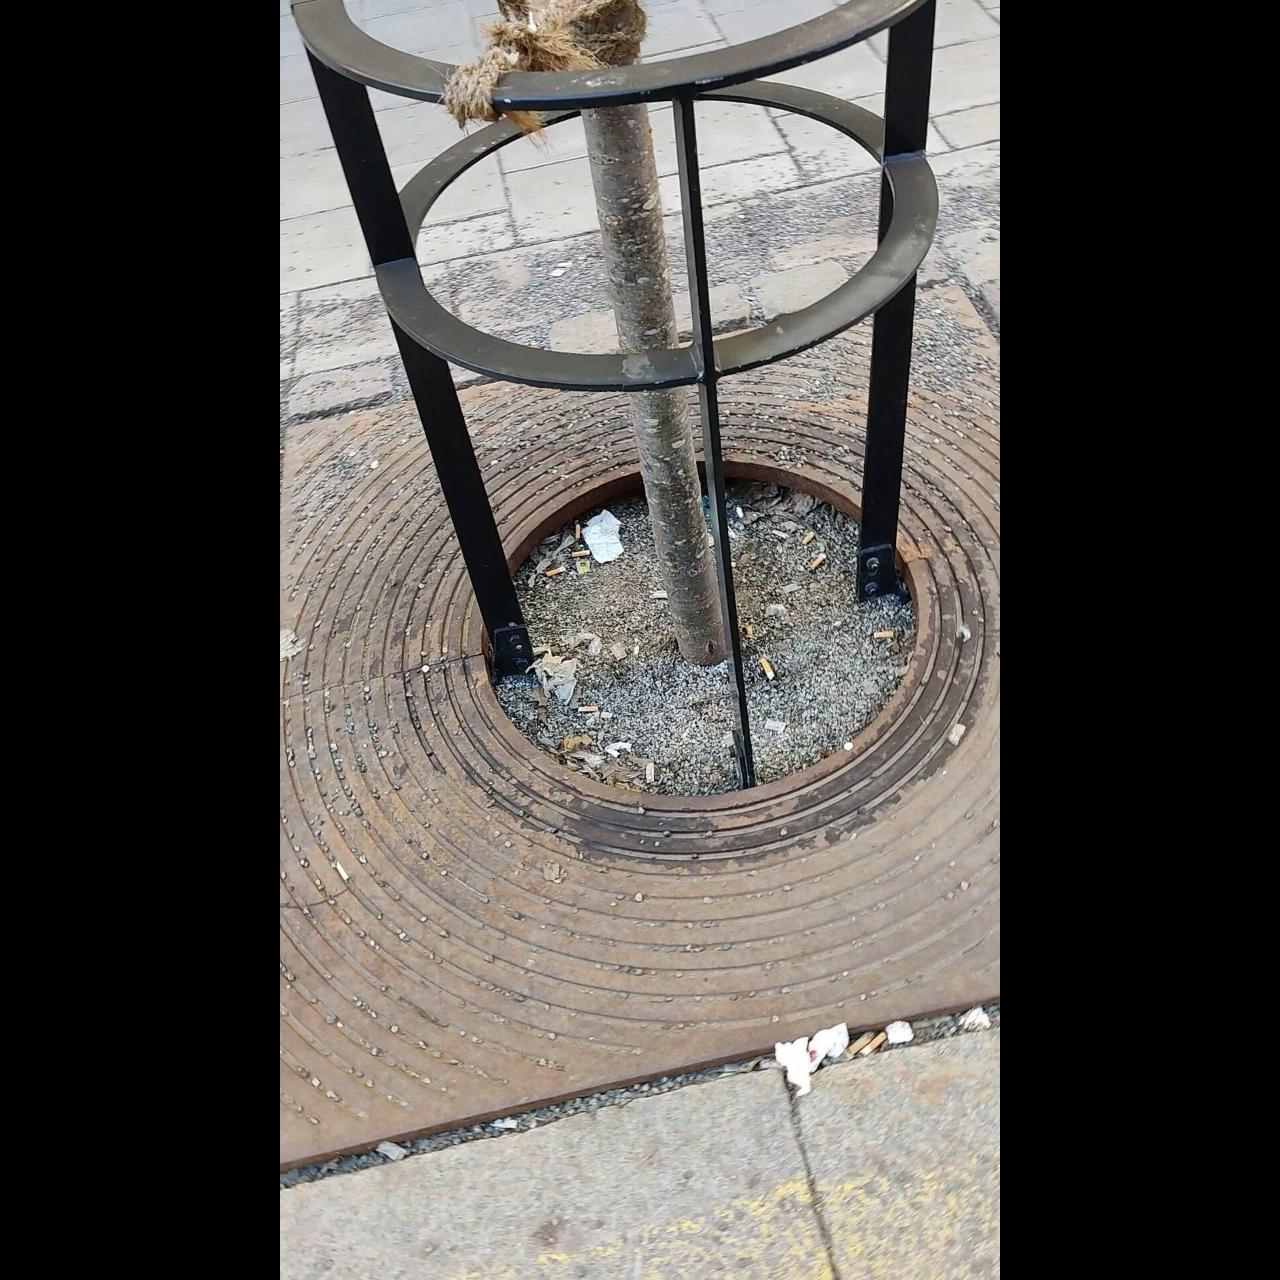cigarettes_butts: (844, 1027, 874, 1057), (864, 1029, 892, 1056), (756, 656, 776, 686), (645, 757, 659, 789), (579, 700, 602, 714), (546, 566, 570, 579), (872, 628, 898, 640), (811, 552, 825, 573), (803, 531, 813, 547), (572, 549, 592, 556), (574, 522, 581, 538), (745, 626, 758, 633)
others: (373, 1136, 409, 1164), (948, 722, 966, 753), (767, 716, 788, 736), (333, 862, 352, 884)
